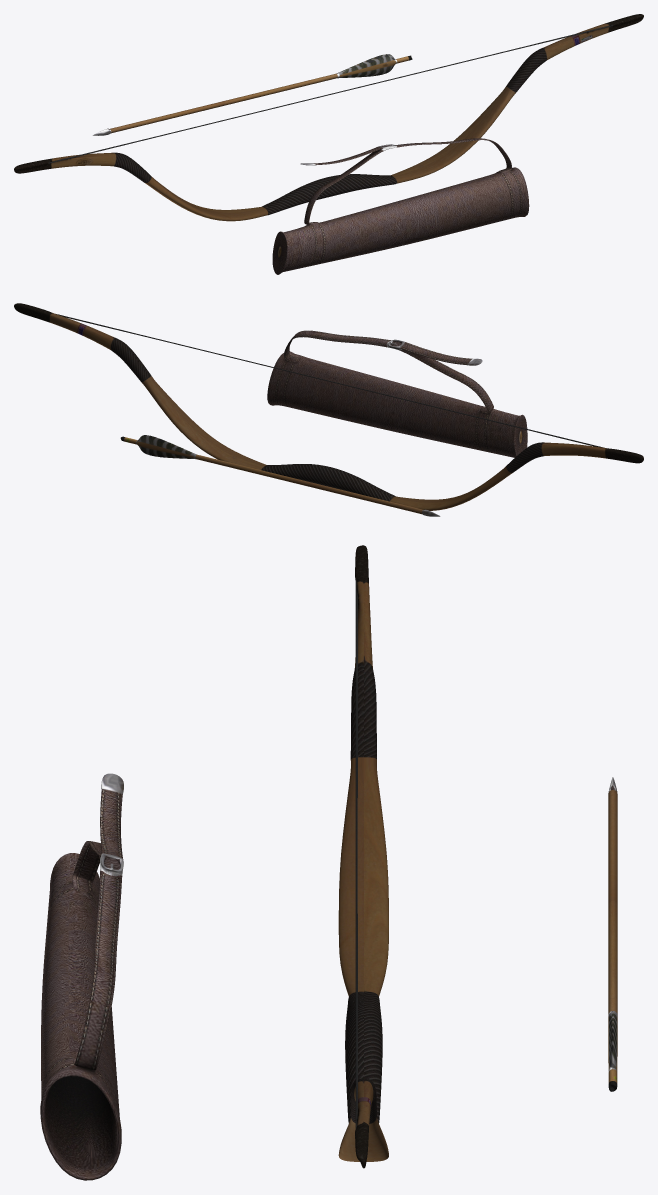
File: bow_set.glb
3 views of the same model, one above another, from view 1: azimuth 30°, elevation 25°; view 2: azimuth 150°, elevation 25°; view 3: azimuth 270°, elevation 25° (orthographic). The views are drawn at different scales.
Parts seen in each view (by area): view 1: quiver, bow, arrow, bow_string_upper, bow_string_lower; view 2: quiver, bow, arrow, bow_string_lower, bow_string_upper; view 3: quiver, bow, arrow.
Boxes of the visible parts, left/top/right/bottom form: quiver: left=272, top=138, right=529, bottom=274; bow: left=14, top=14, right=643, bottom=221; arrow: left=93, top=54, right=412, bottom=135; bow_string_upper: left=331, top=25, right=613, bottom=94; bow_string_lower: left=48, top=94, right=330, bottom=163; quiver: left=267, top=330, right=527, bottom=457; bow: left=14, top=303, right=643, bottom=510; arrow: left=120, top=435, right=440, bottom=516; bow_string_lower: left=330, top=381, right=604, bottom=447; bow_string_upper: left=56, top=314, right=330, bottom=381; quiver: left=40, top=773, right=123, bottom=1180; bow: left=338, top=545, right=388, bottom=1168; arrow: left=608, top=777, right=617, bottom=1091.
Bounding box in the file's own units: 1.57 × 0.2587 × 0.6234.
1 material, 1 textured.
